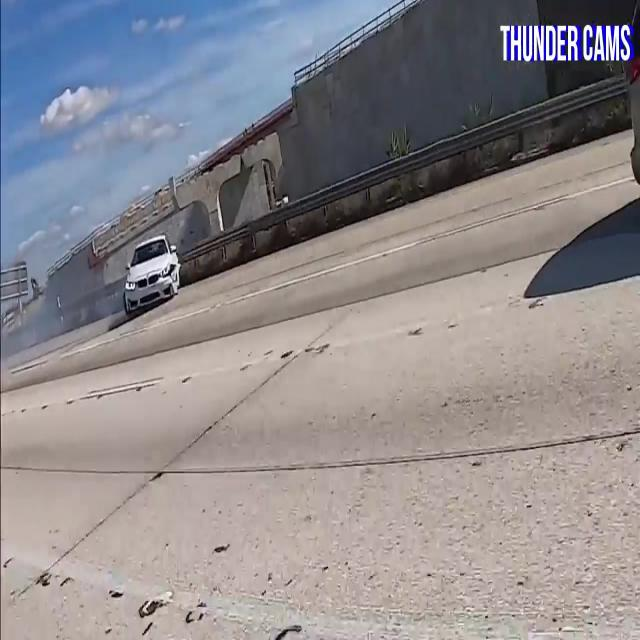accident: (116, 228, 202, 322)
